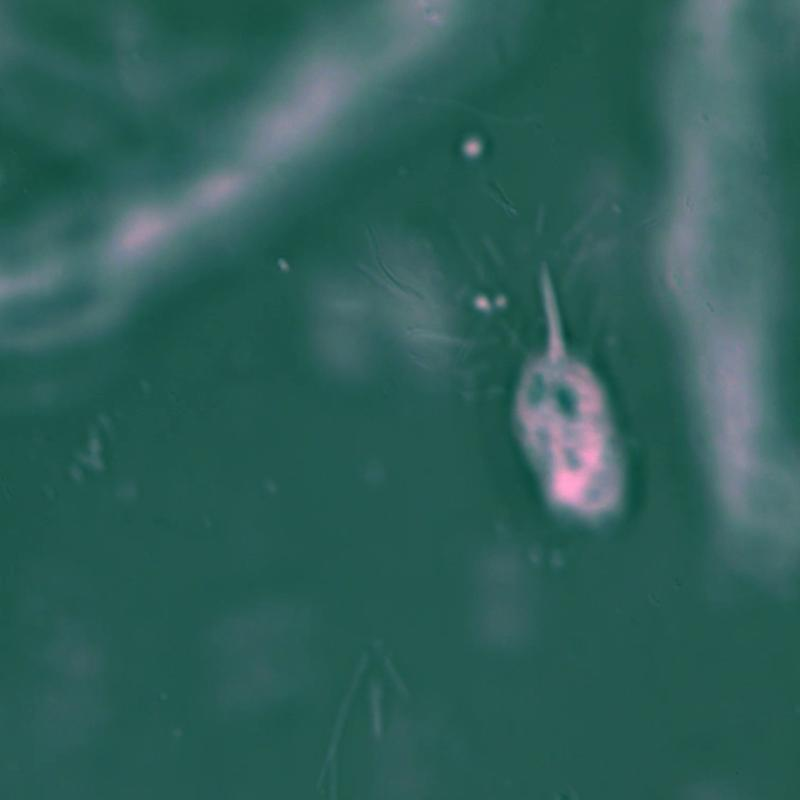depth:80: (463, 220, 660, 594)
